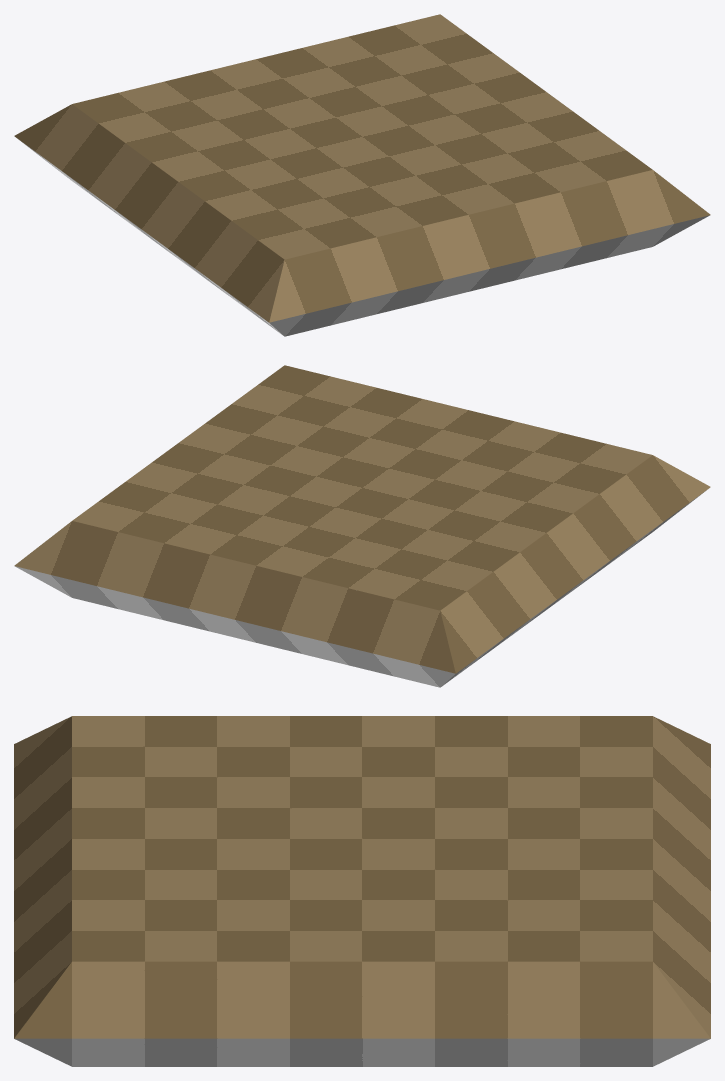
Rendered from ceiling_light.fbx.
3 views of the same model, one above another, from view 1: azimuth 30°, elevation 25°; view 2: azimuth 150°, elevation 25°; view 3: azimuth 270°, elevation 25° (orthographic). The views are drawn at different scales.
Visible parts, largest first — view 1: Cube.003; view 2: Cube.003; view 3: Cube.003.
Boxes of the visible parts, <box> form: Cube.003: <box>14,14,710,336</box>; Cube.003: <box>14,365,710,687</box>; Cube.003: <box>14,716,710,1066</box>.
Size of the model in its own units: 120 by 20 by 120.
